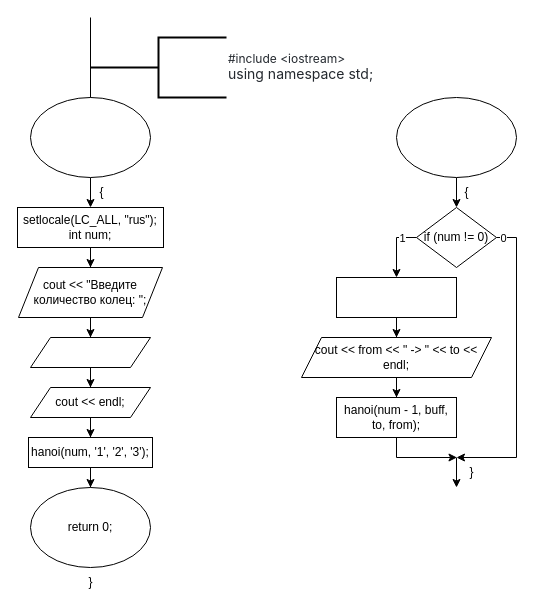
The diagram is 542 pixels wide and 615 high, and some of its shapes have lost their labels. The box of each missing label's shape, as (x1, y1, x2, y2) in pixels:
cin >> num;: (30, 336, 150, 368)
hanoi(num - 1, from, buff, to);: (336, 276, 456, 318)
int main(): (30, 96, 150, 178)
void hanoi(int num, char from, char to, char buff): (396, 96, 516, 178)
